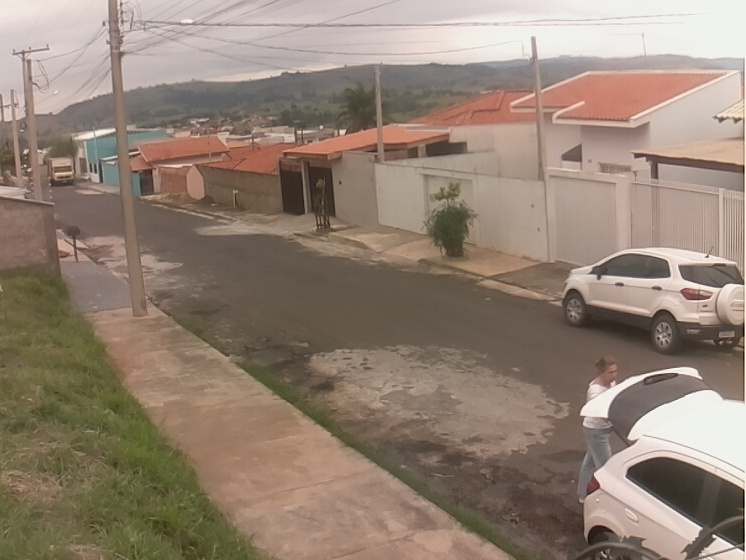person: (575, 355, 620, 493)
